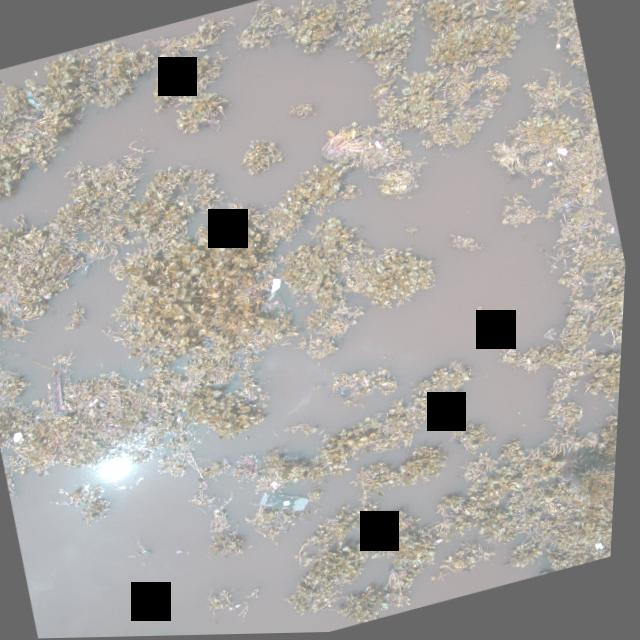plastic: (252, 472, 319, 531), (262, 269, 294, 305), (22, 85, 48, 115), (13, 427, 30, 446), (374, 141, 384, 153)
